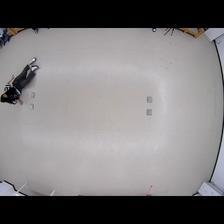fall: (1, 57, 39, 106)
